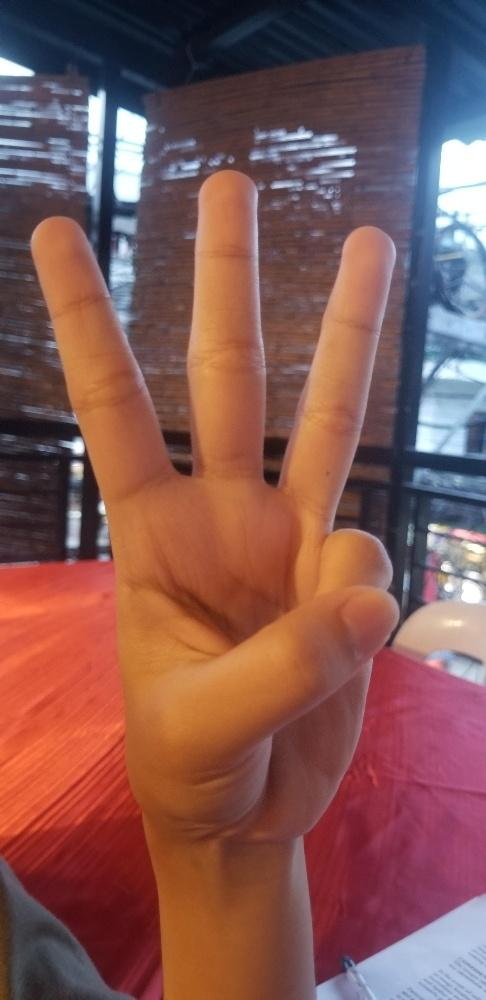w: (27, 172, 399, 836)
